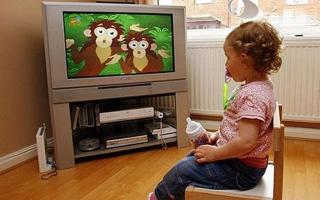person: (151, 21, 284, 200)
